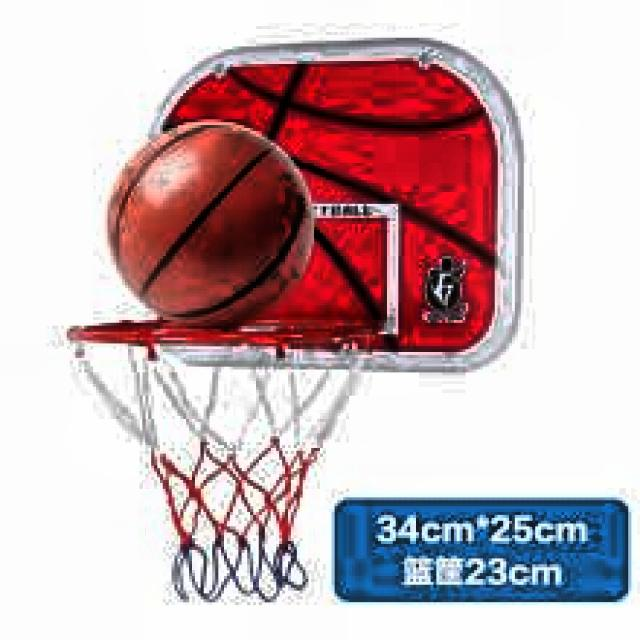board: (106, 119, 313, 323)
rim: (68, 323, 371, 602)
